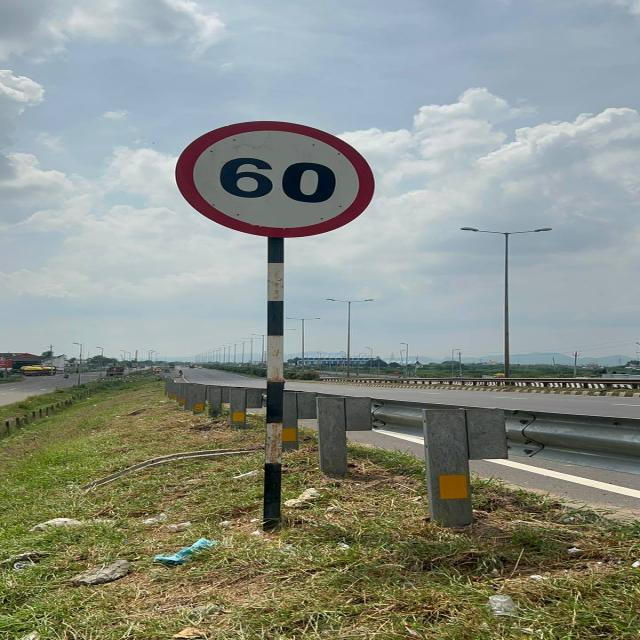speedlimit_60: (177, 120, 372, 240)
